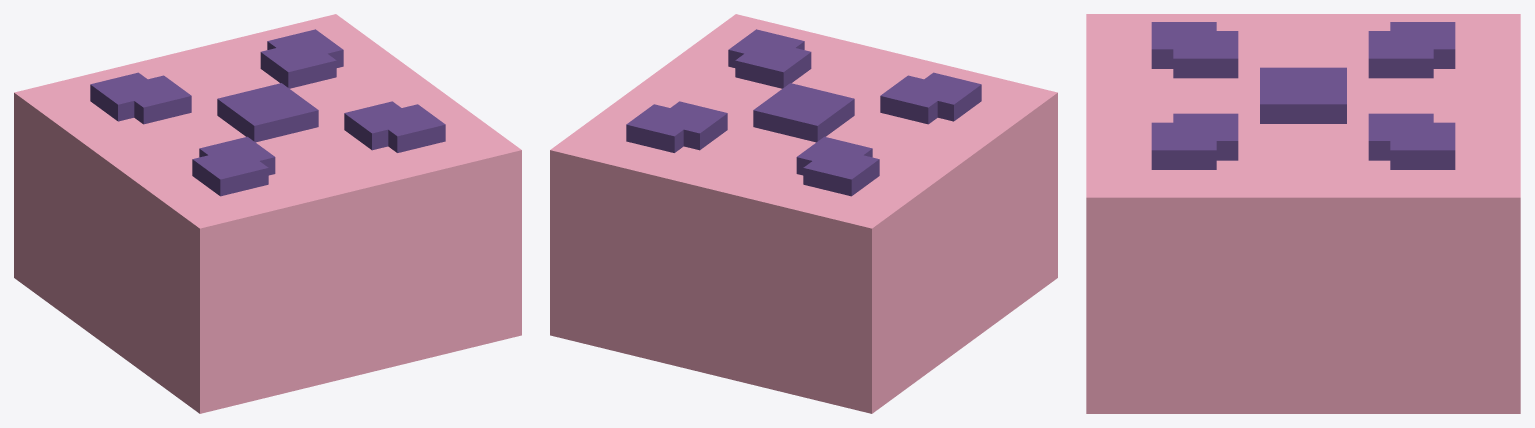
File: GoalFive.obj
3 views of the same model, side by side, from view 1: azimuth 30°, elevation 25°; view 2: azimuth 150°, elevation 25°; view 3: azimuth 270°, elevation 25° (orthographic). The views are drawn at different scales.
Size of the model in its own units: 2 by 1.2 by 2.
